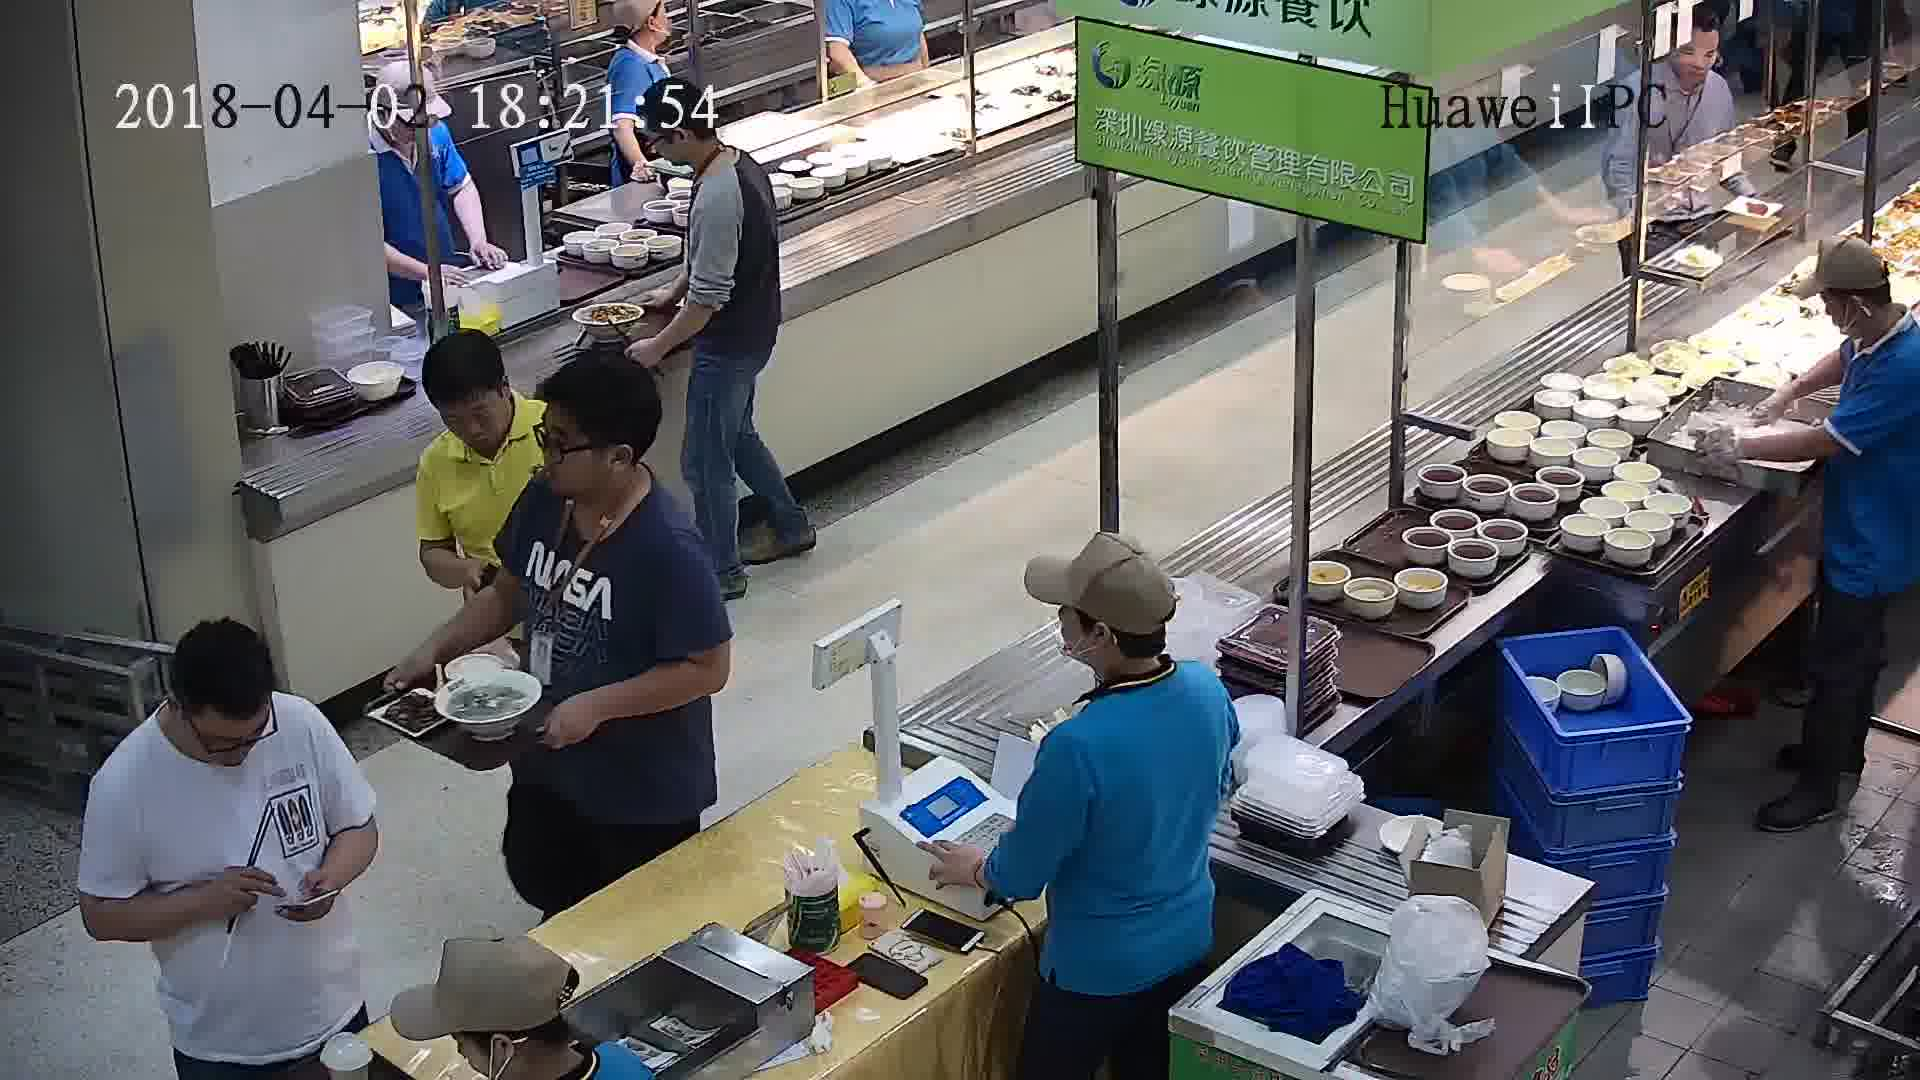face: (522, 401, 619, 498), (194, 700, 260, 766), (1667, 25, 1727, 85), (444, 390, 503, 449)
person: (93, 613, 354, 823), (1029, 530, 1240, 777), (513, 351, 707, 611), (414, 323, 547, 492), (1801, 241, 1920, 401), (638, 88, 769, 222), (369, 57, 460, 179), (1639, 18, 1735, 114), (604, 8, 678, 87)
